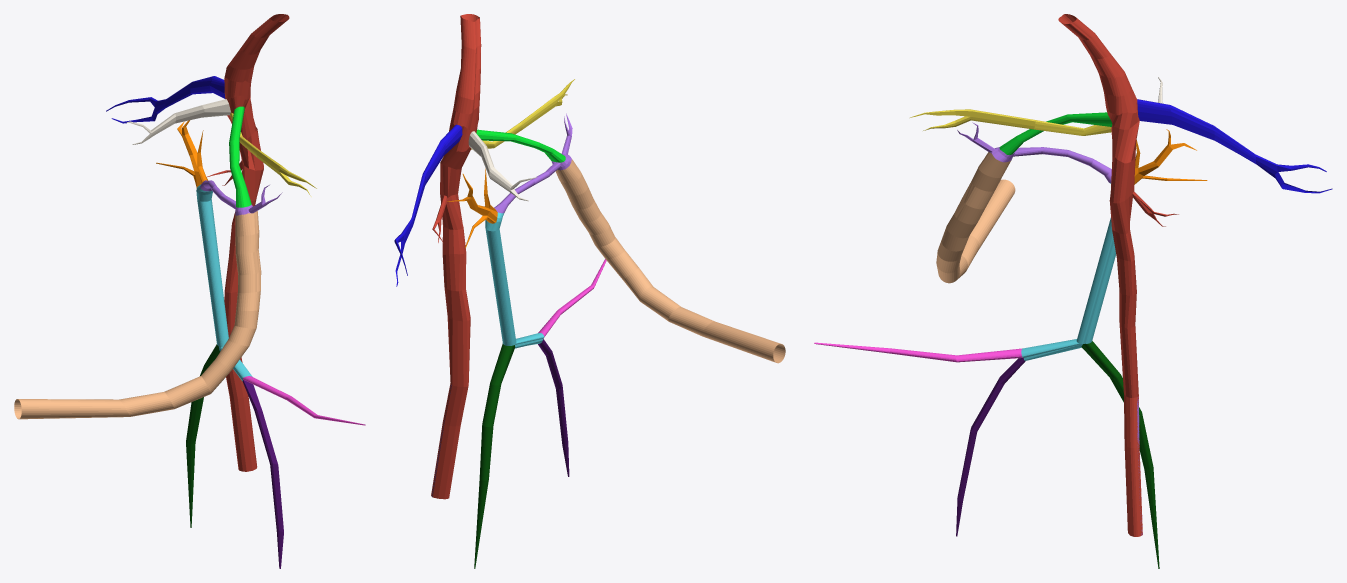
Rendered from Veinswitheverything.glb.
The picture shows the model from 3 angles, left to right: view 1: azimuth 30°, elevation 25°; view 2: azimuth 150°, elevation 25°; view 3: azimuth 270°, elevation 25°; orthographic projection. The views are drawn at different scales.
Parts seen in each view (by area): view 1: VEINS; view 2: VEINS; view 3: VEINS.
Boxes of the visible parts, <box> form: VEINS: <box>14,14,365,568</box>; VEINS: <box>394,14,785,568</box>; VEINS: <box>814,14,1332,568</box>.
Bounding box in the file's own units: 43.93 × 73.68 × 60.23.
